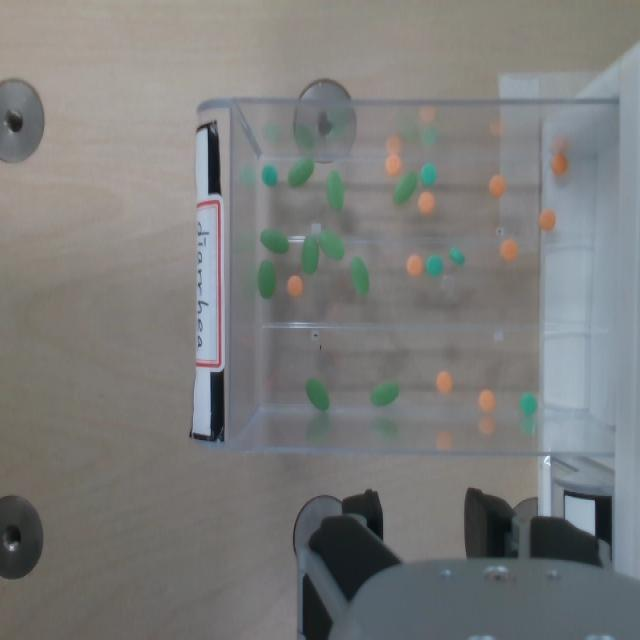famodine: (520, 392, 537, 416), (520, 392, 538, 413), (261, 164, 278, 186), (420, 163, 437, 185), (426, 255, 443, 276), (420, 166, 438, 185), (261, 164, 277, 185), (427, 254, 442, 276), (449, 247, 464, 265), (450, 246, 464, 264)
otillen_tab: (318, 229, 345, 261), (393, 170, 417, 204), (306, 377, 330, 411), (393, 171, 417, 204), (288, 155, 315, 184), (259, 227, 288, 254), (349, 256, 370, 293), (350, 256, 369, 295), (306, 379, 329, 411), (288, 157, 314, 185), (318, 231, 344, 259), (325, 170, 343, 210), (257, 259, 275, 298), (301, 235, 319, 273), (372, 381, 399, 406), (260, 229, 288, 253), (371, 381, 399, 405), (257, 260, 275, 297), (326, 171, 343, 209), (301, 236, 318, 273)
samsung_octylonium_tab: (488, 173, 506, 197), (551, 152, 568, 176), (501, 237, 518, 260), (539, 208, 556, 231), (478, 389, 495, 412), (500, 239, 517, 261), (489, 174, 505, 197), (385, 153, 401, 176), (384, 155, 403, 174), (417, 193, 435, 213), (406, 255, 423, 276), (418, 191, 434, 213), (550, 154, 567, 174), (539, 209, 556, 229), (436, 371, 452, 392), (287, 275, 303, 296), (479, 390, 495, 410), (407, 254, 422, 274), (437, 371, 452, 391), (288, 275, 302, 296)
